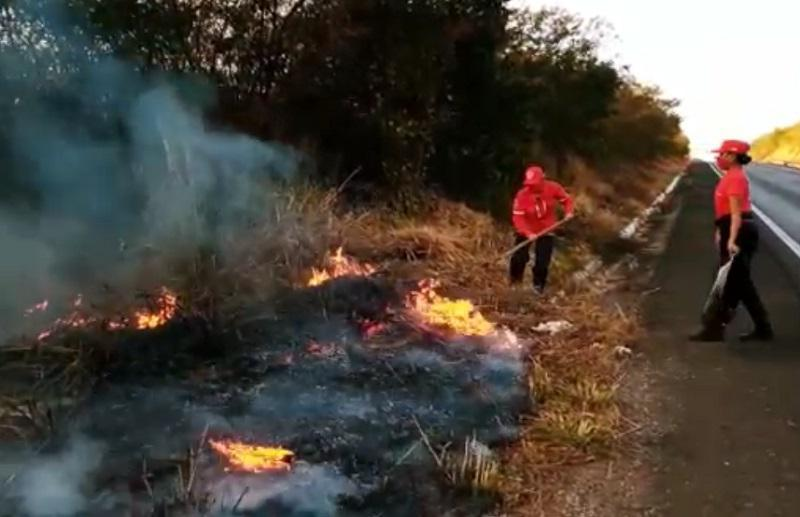Fire: (414, 282, 492, 337), (206, 438, 292, 472), (310, 252, 357, 290), (135, 295, 182, 330)
